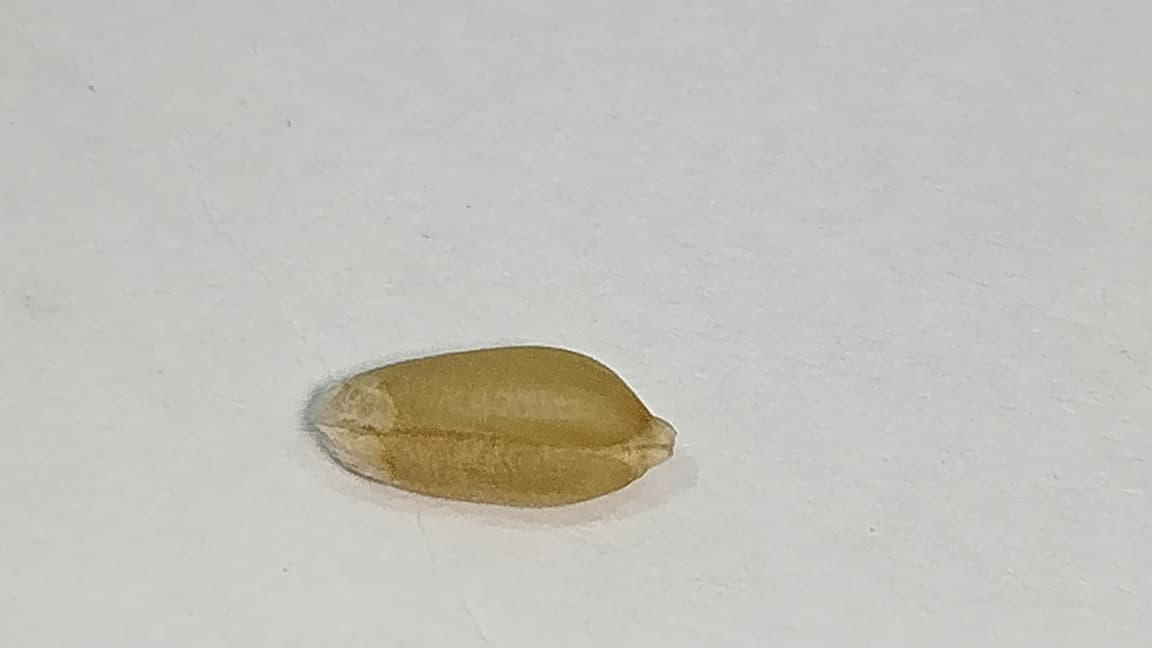healthy: (313, 344, 675, 505)
